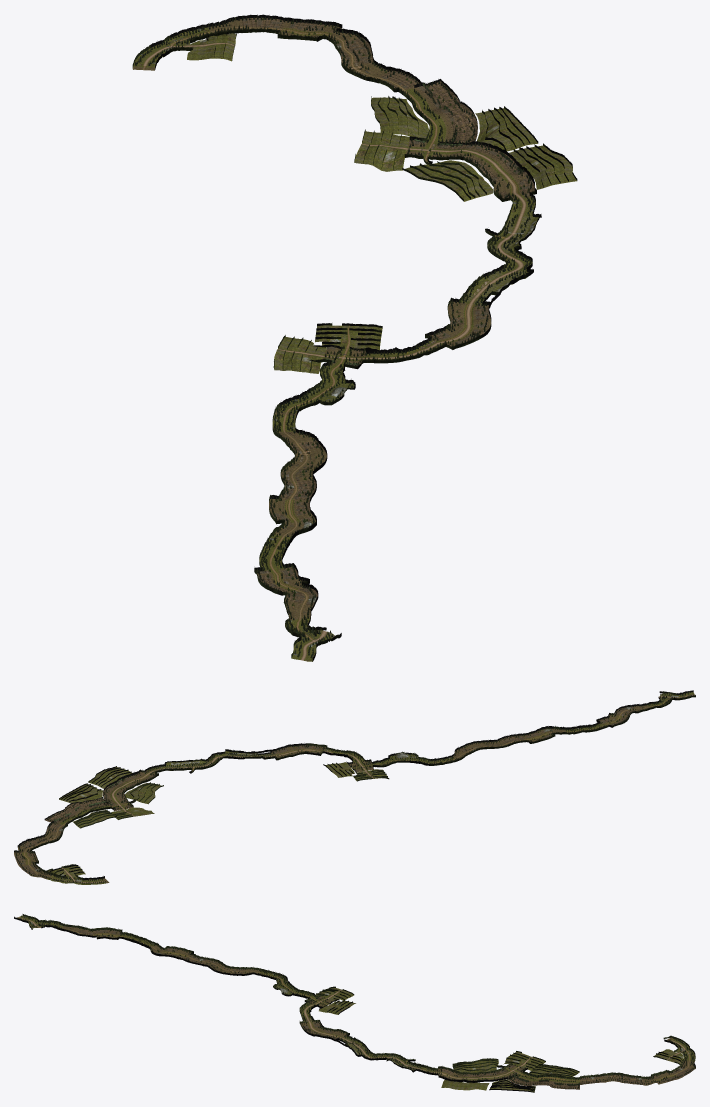
Rendered from russia_stage6_visual.glb.
3 views of the same model, one above another, from view 1: azimuth 30°, elevation 25°; view 2: azimuth 150°, elevation 25°; view 3: azimuth 270°, elevation 25° (orthographic). The views are drawn at different scales.
Parts seen in each view (by area): view 1: Track_Road_And_Terrain, Foliage_And_Vegetation; view 2: Track_Road_And_Terrain, Foliage_And_Vegetation; view 3: Track_Road_And_Terrain, Foliage_And_Vegetation.
Part boxes in pixels (x1,y1,x2,y2): Track_Road_And_Terrain: (132,14,576,661); Foliage_And_Vegetation: (134,16,577,657); Track_Road_And_Terrain: (14,690,695,884); Foliage_And_Vegetation: (15,691,693,884); Track_Road_And_Terrain: (14,914,695,1091); Foliage_And_Vegetation: (17,915,695,1092).
Size of the model in its own units: 2209 by 49.07 by 3602.
93 materials, 93 textured.
